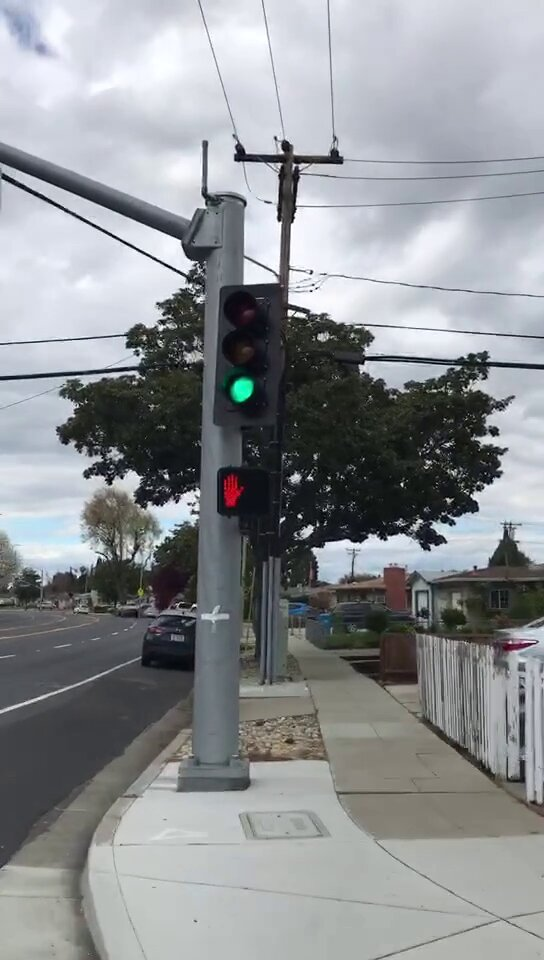green_light: (219, 285, 279, 424)
